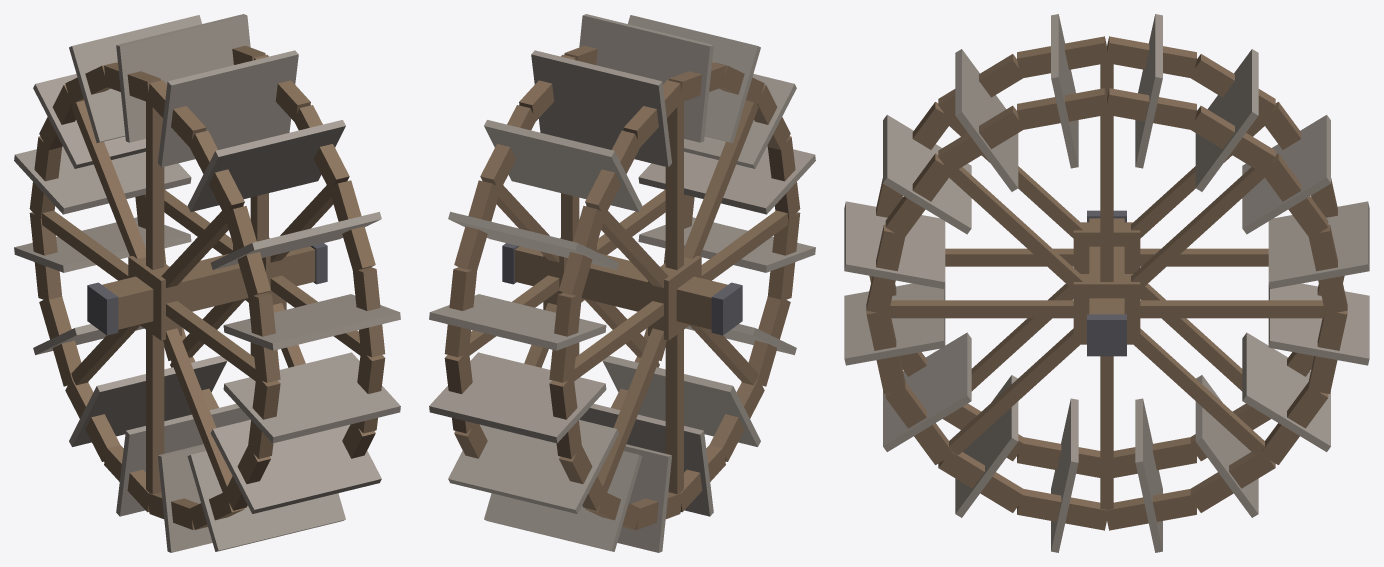
Rendered from watermill_wheel.glb.
3 views of the same model, side by side, from view 1: azimuth 30°, elevation 25°; view 2: azimuth 150°, elevation 25°; view 3: azimuth 270°, elevation 25° (orthographic).
Visible parts, largest first — view 1: WatermillWheel; view 2: WatermillWheel; view 3: WatermillWheel.
Part boxes in pixels (bbox=[...]): WatermillWheel: bbox=[14, 14, 400, 552]; WatermillWheel: bbox=[429, 14, 815, 552]; WatermillWheel: bbox=[844, 14, 1369, 552].
Size of the model in its own units: 2.32 by 4.72 by 4.72.
